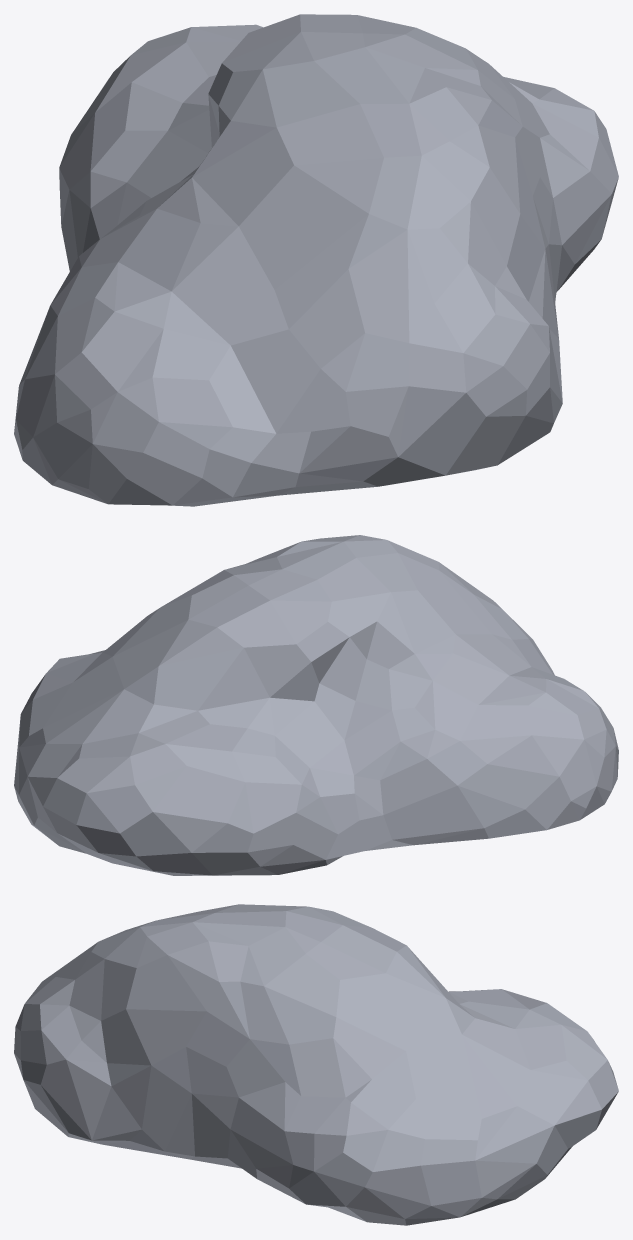
File: rock_1.glb
3 renders of one model, top to bottom at view 1: azimuth 30°, elevation 25°; view 2: azimuth 150°, elevation 25°; view 3: azimuth 270°, elevation 25°, orthographic. The views are drawn at different scales.
Parts seen in each view (by area): view 1: rock_1; view 2: rock_1; view 3: rock_1.
Boxes of the visible parts, x1,y1,x2,y2 form: rock_1: (14,14,618,506); rock_1: (14,535,618,875); rock_1: (14,904,618,1225).
Size of the model in its own units: 4.3 by 1.81 by 4.64.
Materials: 1 (1 with a texture image).
